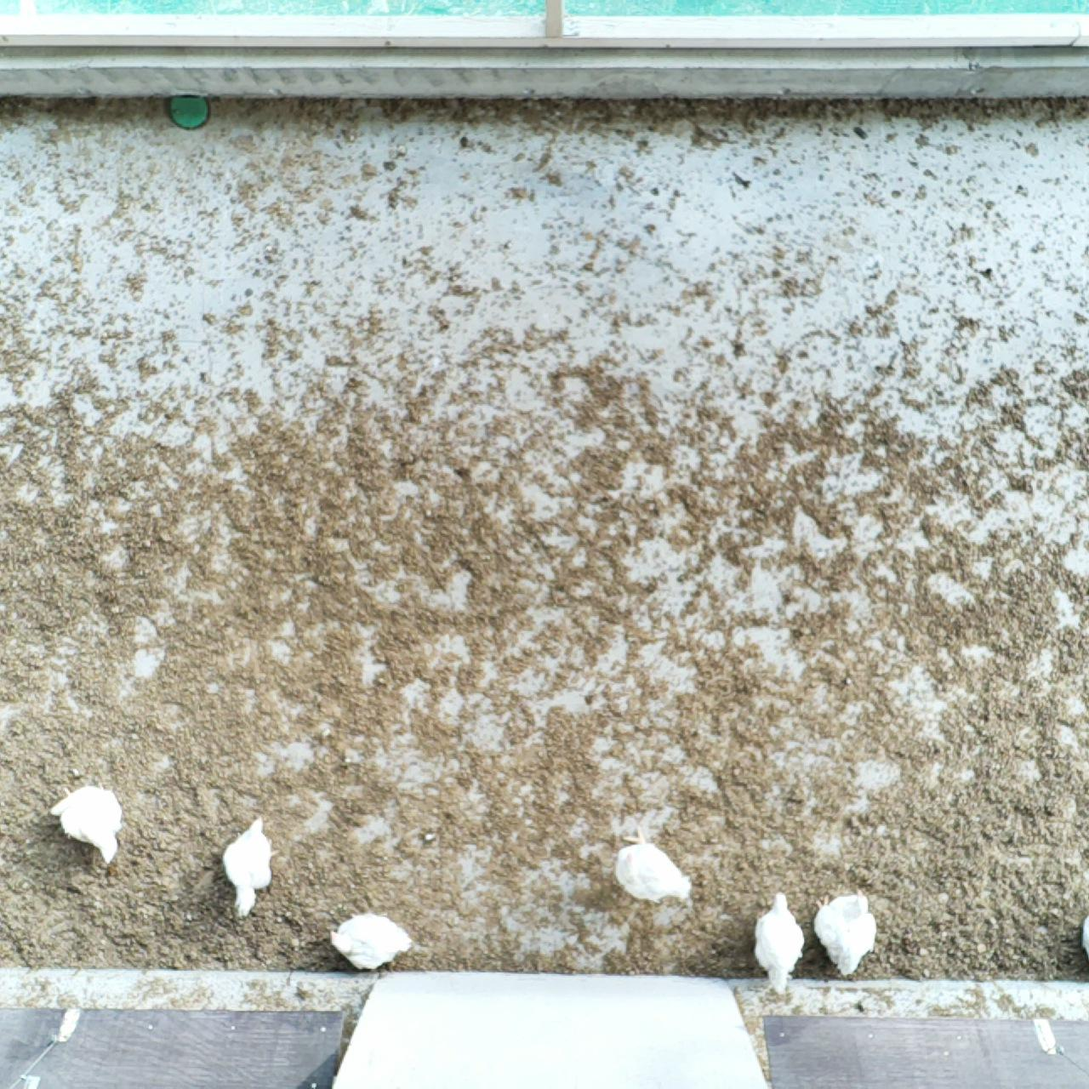chicken: (609, 823, 694, 912), (49, 775, 129, 867), (809, 883, 882, 978), (220, 812, 284, 917), (746, 889, 810, 988), (324, 906, 416, 972)
